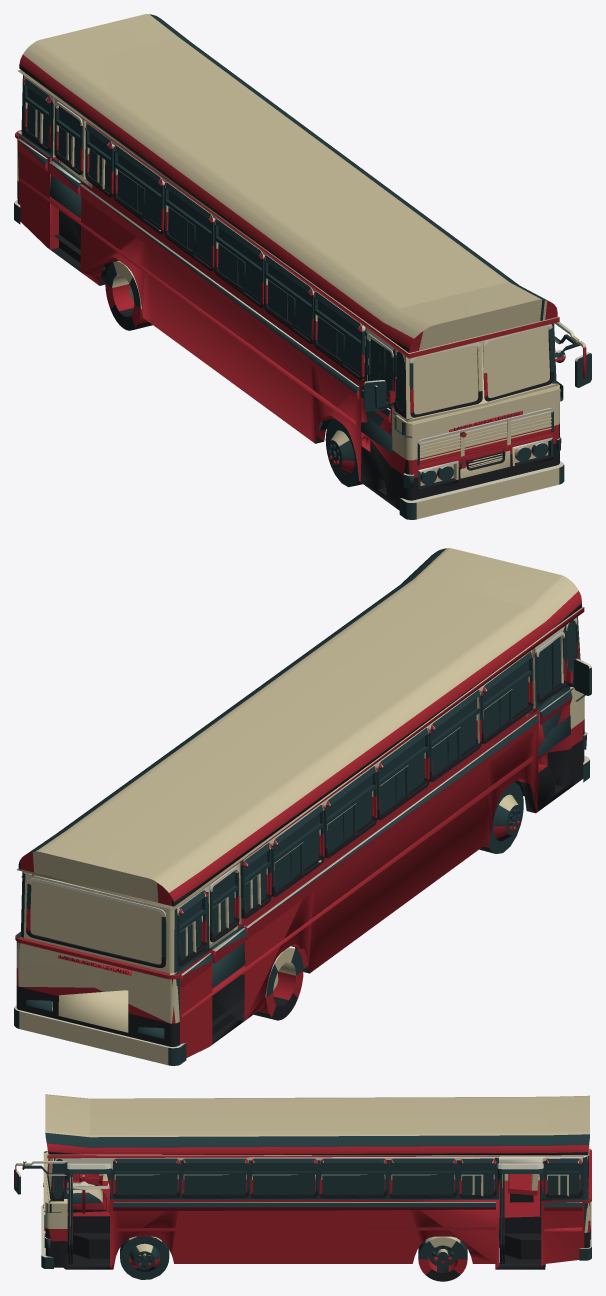
File: sri_lanka_bus.glb
The picture shows the model from 3 angles, top to bottom: view 1: azimuth 30°, elevation 25°; view 2: azimuth 150°, elevation 25°; view 3: azimuth 270°, elevation 25°; orthographic projection. The views are drawn at different scales.
Visible parts, largest first — view 1: Cube.047, Cube, Plane.001, Plane.003, Cube.062, Cube.067, Cube.022, Cube.057, Cylinder.026, Cube.051, Cube.048, Cube.054 (+12 smaller); view 2: Cube.047, Cube, Plane.001, Plane.007, Cube.062, Cube.071, Cube.022, Cube.154, Cylinder.026, Cube.051, Cube.025, Cube.143 (+11 smaller); view 3: Cube.047, Cube, Plane, Cube.048, Cube.053, Cylinder.026, Cube.049, Cube.022, Cylinder.001, Plane.002, Cube.068, Cylinder.022 (+24 smaller).
Part boxes in pixels (bbox=[...]): Cube.047: bbox=[19, 14, 557, 352]; Cube: bbox=[17, 75, 563, 510]; Plane.001: bbox=[27, 87, 361, 373]; Plane.003: bbox=[413, 326, 549, 414]; Cube.062: bbox=[17, 138, 390, 422]; Cube.067: bbox=[399, 461, 564, 519]; Cube.022: bbox=[17, 70, 559, 358]; Cube.057: bbox=[420, 411, 551, 467]; Cylinder.026: bbox=[105, 261, 152, 330]; Cube.051: bbox=[19, 178, 355, 425]; Cube.048: bbox=[394, 323, 558, 422]; Cube.054: bbox=[417, 408, 553, 470]; Cube.047: bbox=[18, 548, 581, 906]; Cube: bbox=[16, 625, 585, 1057]; Plane.001: bbox=[179, 660, 528, 960]; Plane.007: bbox=[29, 878, 164, 964]; Cube.062: bbox=[180, 690, 572, 987]; Cube.071: bbox=[14, 1005, 186, 1065]; Cube.022: bbox=[17, 606, 584, 909]; Cube.154: bbox=[58, 990, 128, 1032]; Cylinder.026: bbox=[254, 947, 303, 1020]; Cube.051: bbox=[181, 756, 533, 1017]; Cube.025: bbox=[26, 878, 166, 967]; Cube.143: bbox=[15, 934, 181, 979]; Cube.047: bbox=[45, 1094, 589, 1155]; Cube: bbox=[43, 1149, 590, 1269]; Plane: bbox=[114, 1163, 494, 1194]; Cube.048: bbox=[46, 1158, 541, 1262]; Cube.053: bbox=[113, 1202, 582, 1210]; Cylinder.026: bbox=[418, 1236, 467, 1281]; Cube.049: bbox=[113, 1227, 495, 1231]; Cube.022: bbox=[47, 1145, 589, 1158]; Cylinder.001: bbox=[120, 1236, 169, 1279]; Plane.002: bbox=[547, 1163, 580, 1194]; Cube.068: bbox=[67, 1181, 106, 1212]; Cylinder.022: bbox=[129, 1243, 160, 1271].
Size of the model in its own units: 2.74 by 2.88 by 10.5.
